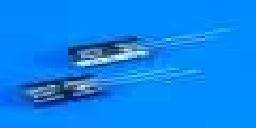Electrolytic-Capacitor: (13, 67, 215, 109), (67, 24, 241, 65)
